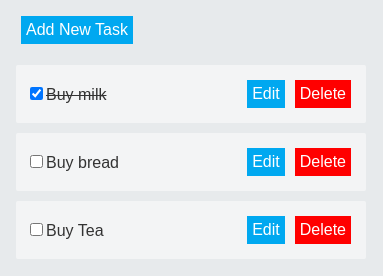
it: TodoApp › Edit Item - Item Text will get updated on Edit
The image size is (383, 276).
Click the button with test id "btn-edit-Buy milk". click: {"x": 266, "y": 94}
box: [247,80,285,108]
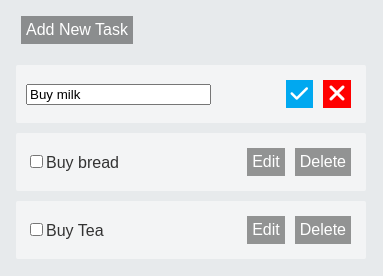
expect the field with test id "default-input" is shown: met
expect the button with test id "btn-enter" is shown: met, box [286,80,313,108]
Replace the text in the field with test id "default-input" with "New Todo". click: {"x": 118, "y": 94}
box: [26,84,211,104]
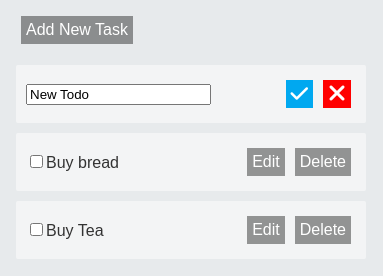
Click the button with test id "btn-enter". click: {"x": 299, "y": 94}
box: [286,80,313,108]
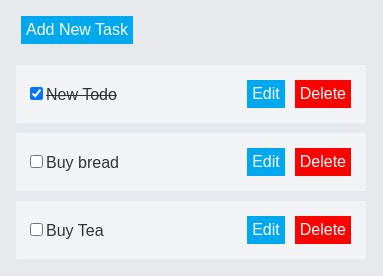
expect the checkbox with test id "New Todo" is shown: met, box [30,87,43,100]
